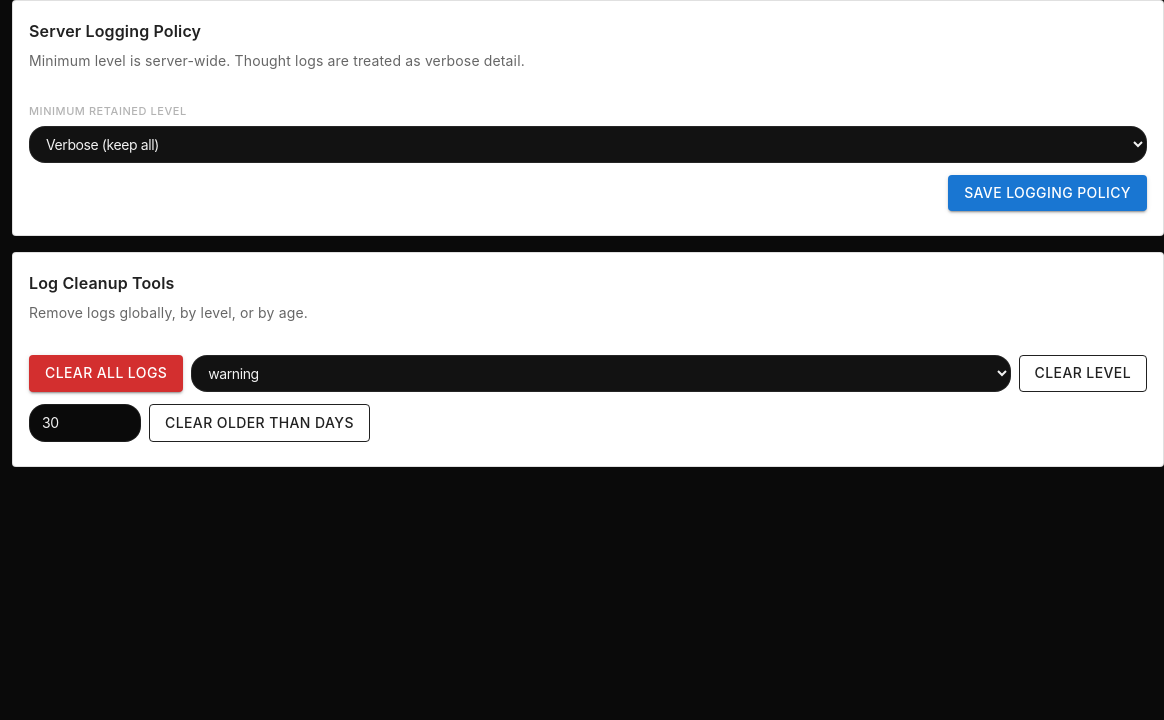
it: LoggingConfig — interactions › shows success message after saving
Step 1. Click the button "Save Logging Policy" → (1048, 193), box 948,174 -> 1147,211
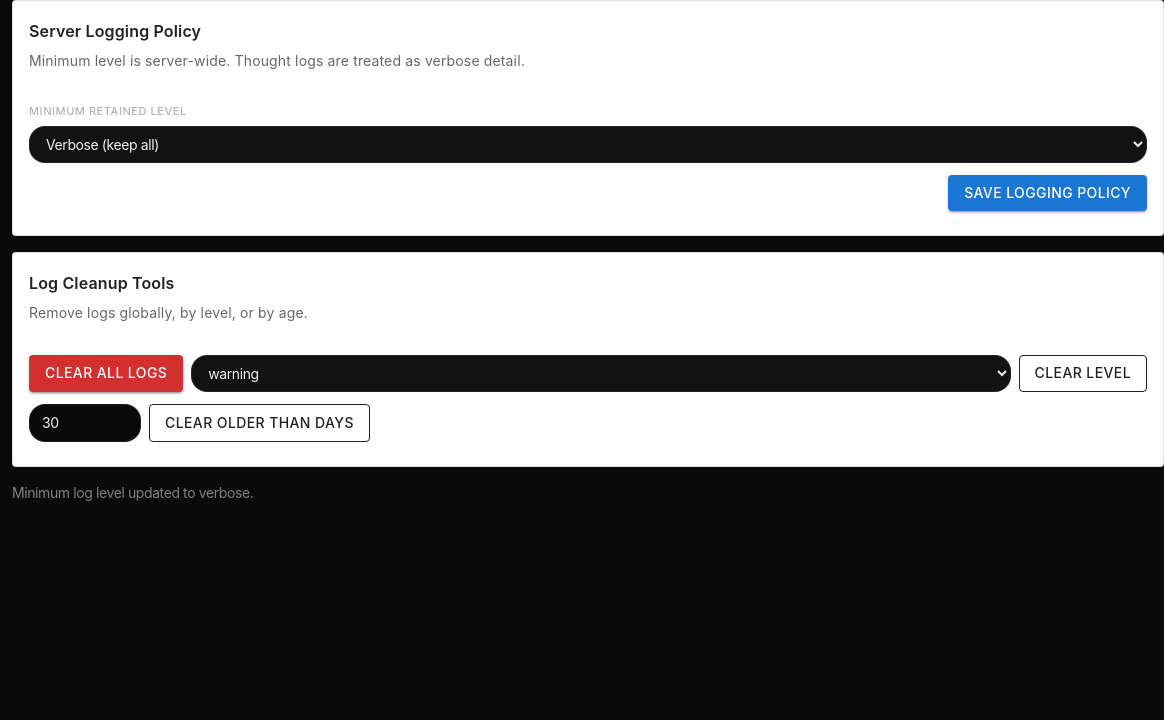
Check: the text "Minimum log level updated to verbose." is shown, box 12,484 -> 253,501
